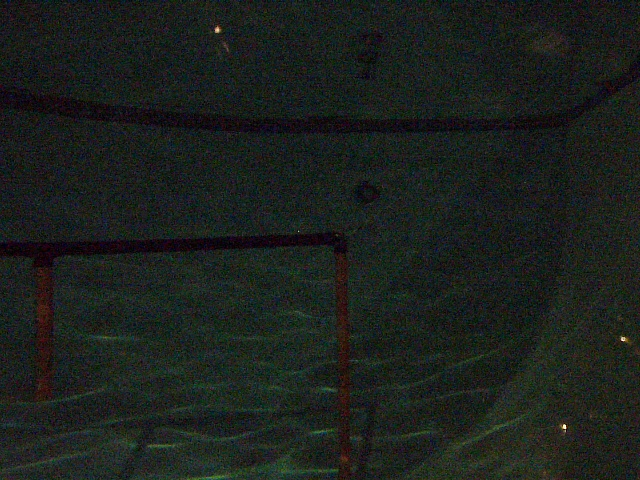Gate: (332, 251, 355, 469), (30, 259, 59, 392)
